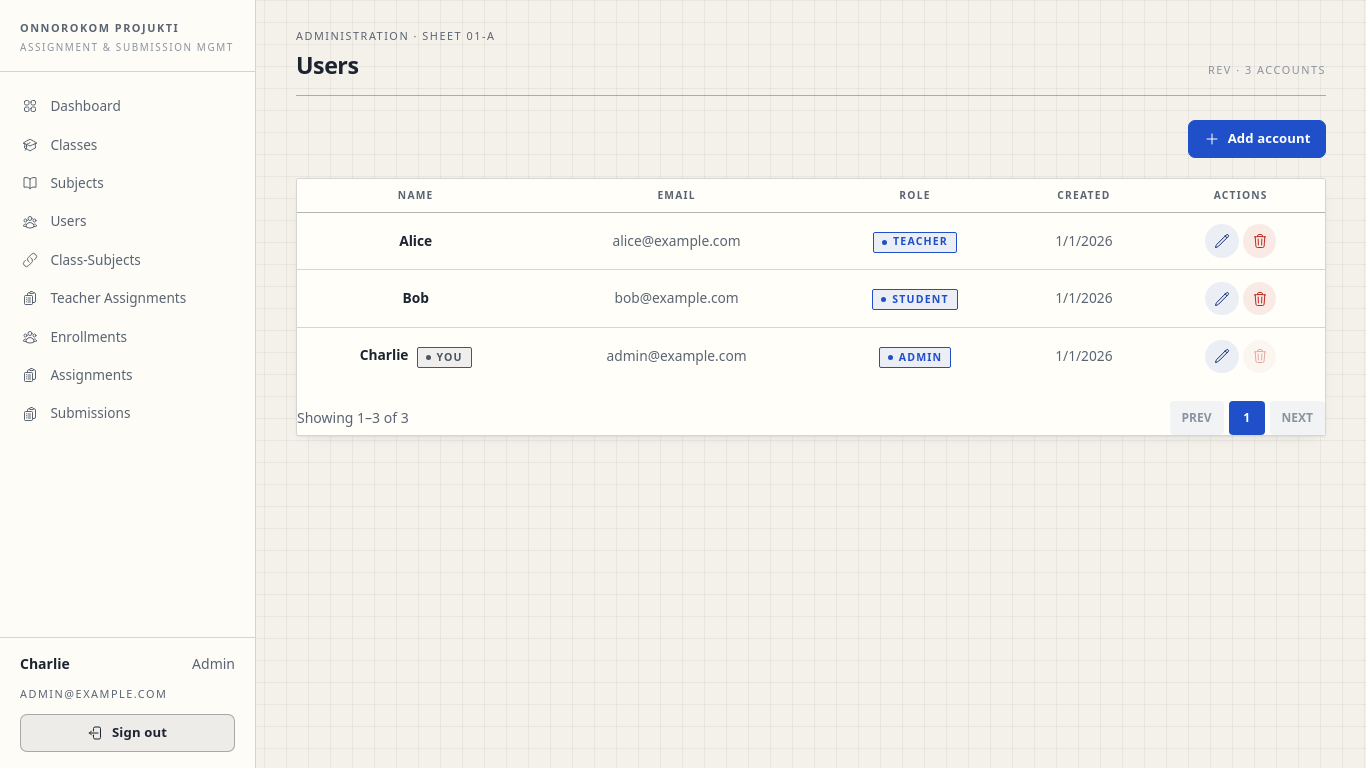
AdminUsersPage › prefills the correct role when editing a user
The image size is (1366, 768).
Expected: the button named "Edit Alice" is shown, [1205,224,1239,258]
Click the button named "Edit Bob" at (1222, 299), box [1205,282,1239,316]
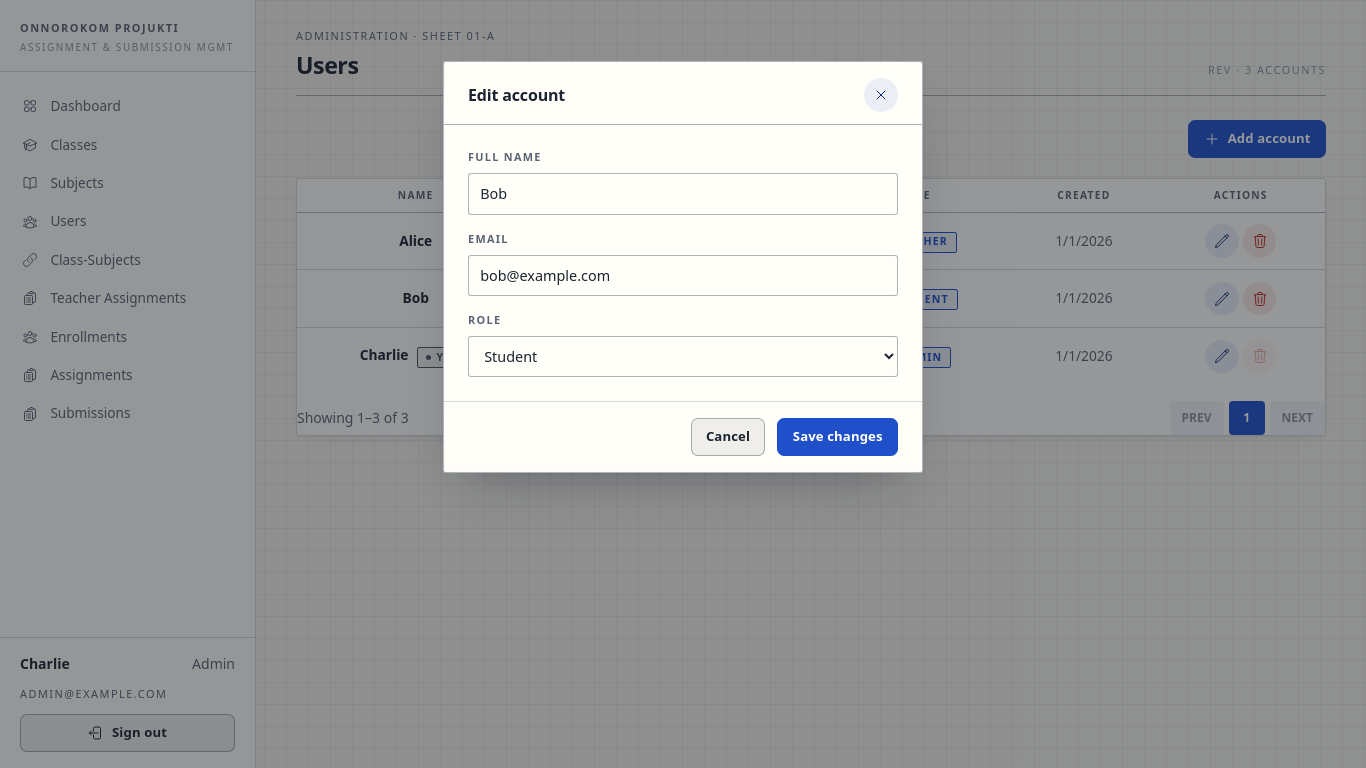
Now the dropdown labelled "Role" shows "Student", box [468,336,898,377]
